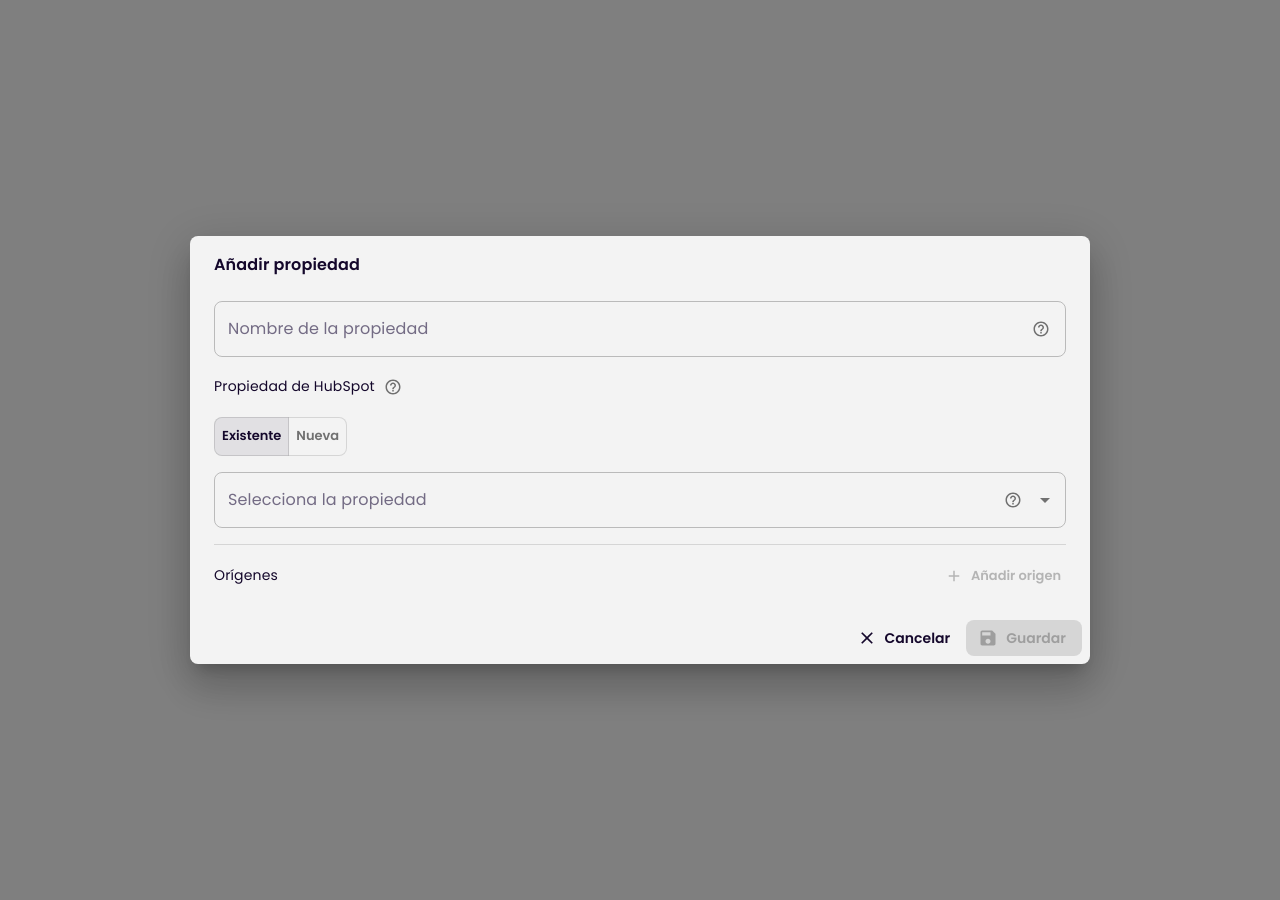
Test case: EntryWizard › en modo «new» exige nombre técnico y etiqueta para habilitar Guardar
The width and height of the screenshot is (1280, 900).
Type "Mi entrada" into the field labelled "Nombre de la propiedad" at (616, 329), box [214, 301, 1019, 357]
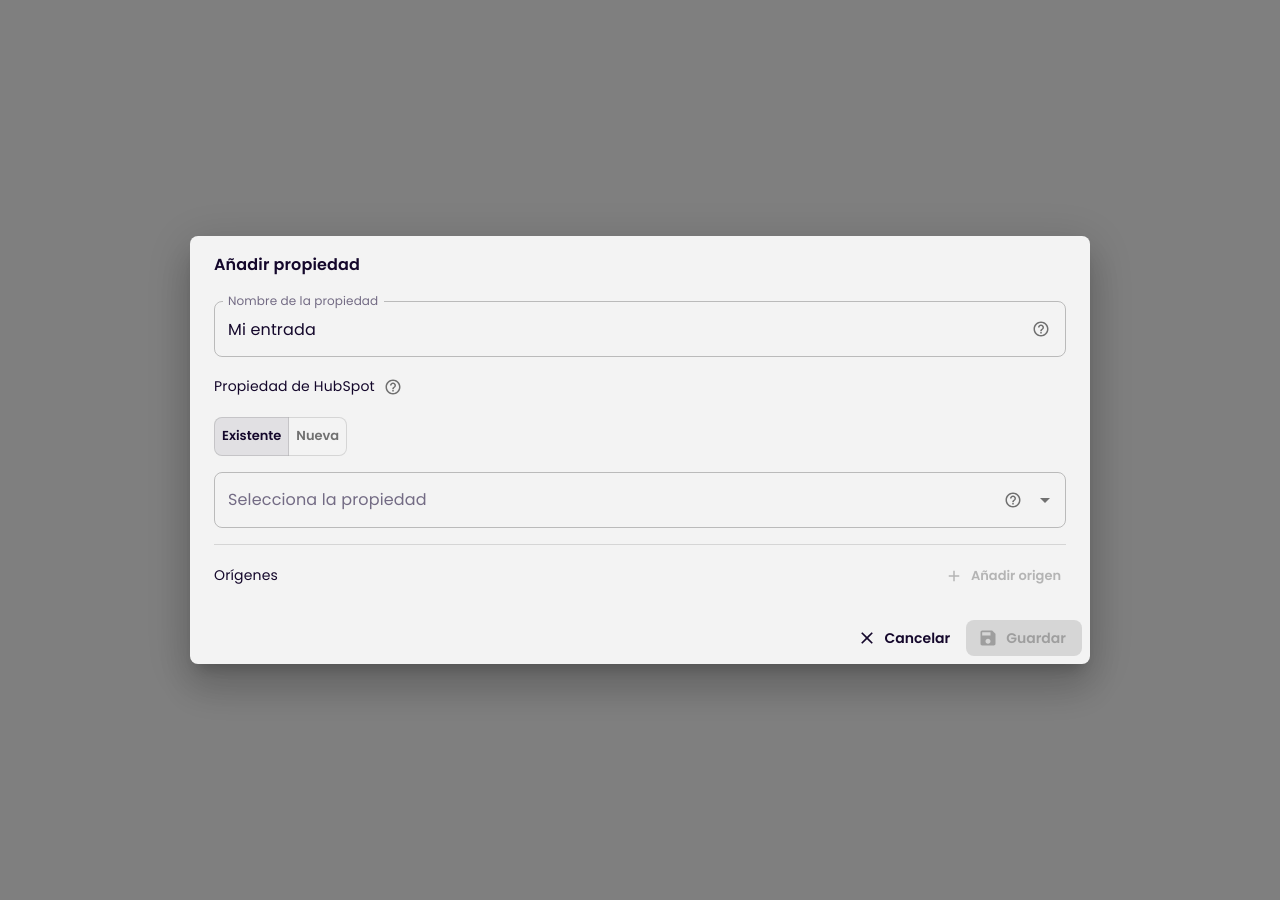
Click the button "Nueva" at (318, 437), box [288, 417, 347, 456]
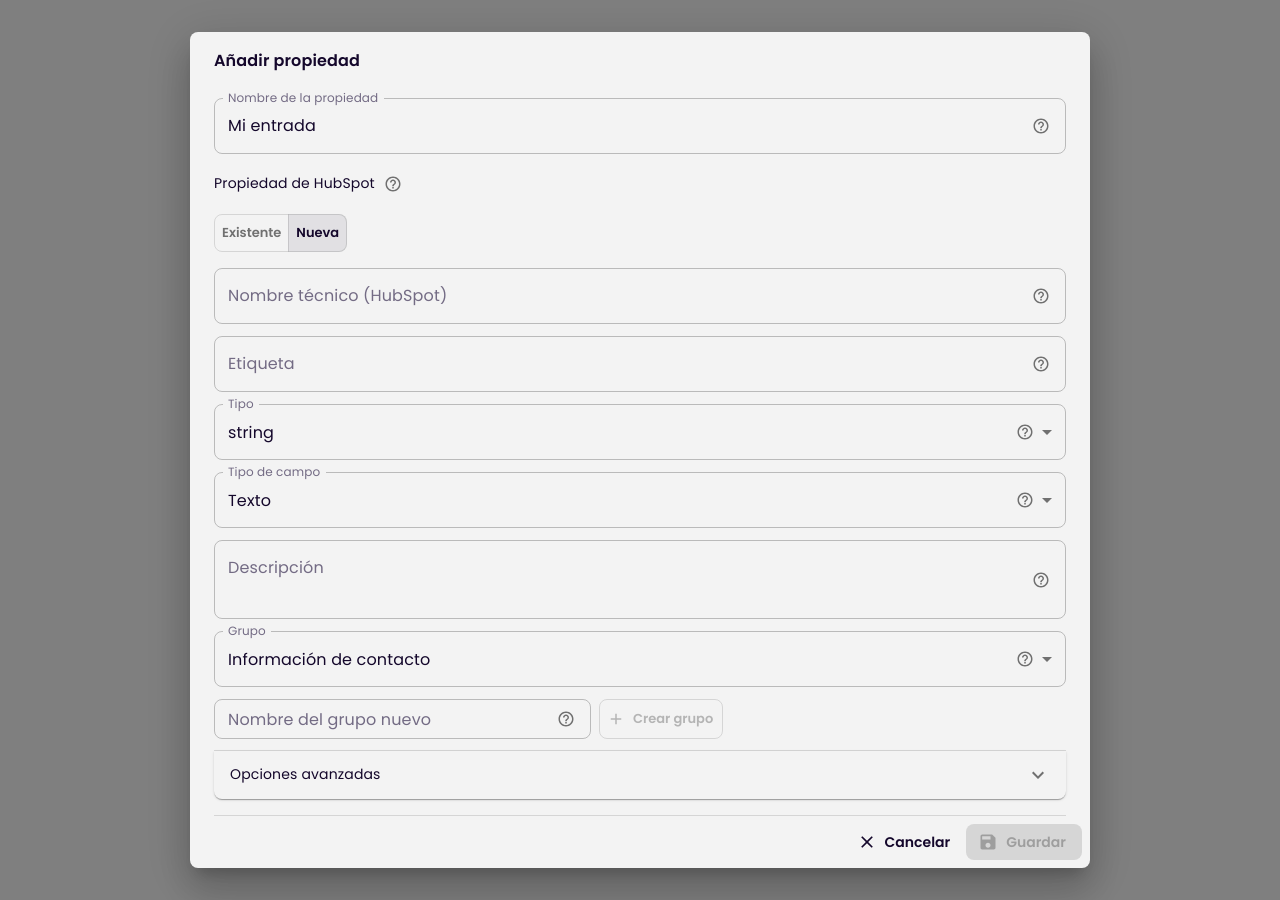
Expected: the button "Guardar" is disabled, [966, 824, 1082, 860]
Type "mi_prop" into the field labelled "Nombre técnico (HubSpot)" at (616, 296), box [214, 268, 1019, 324]
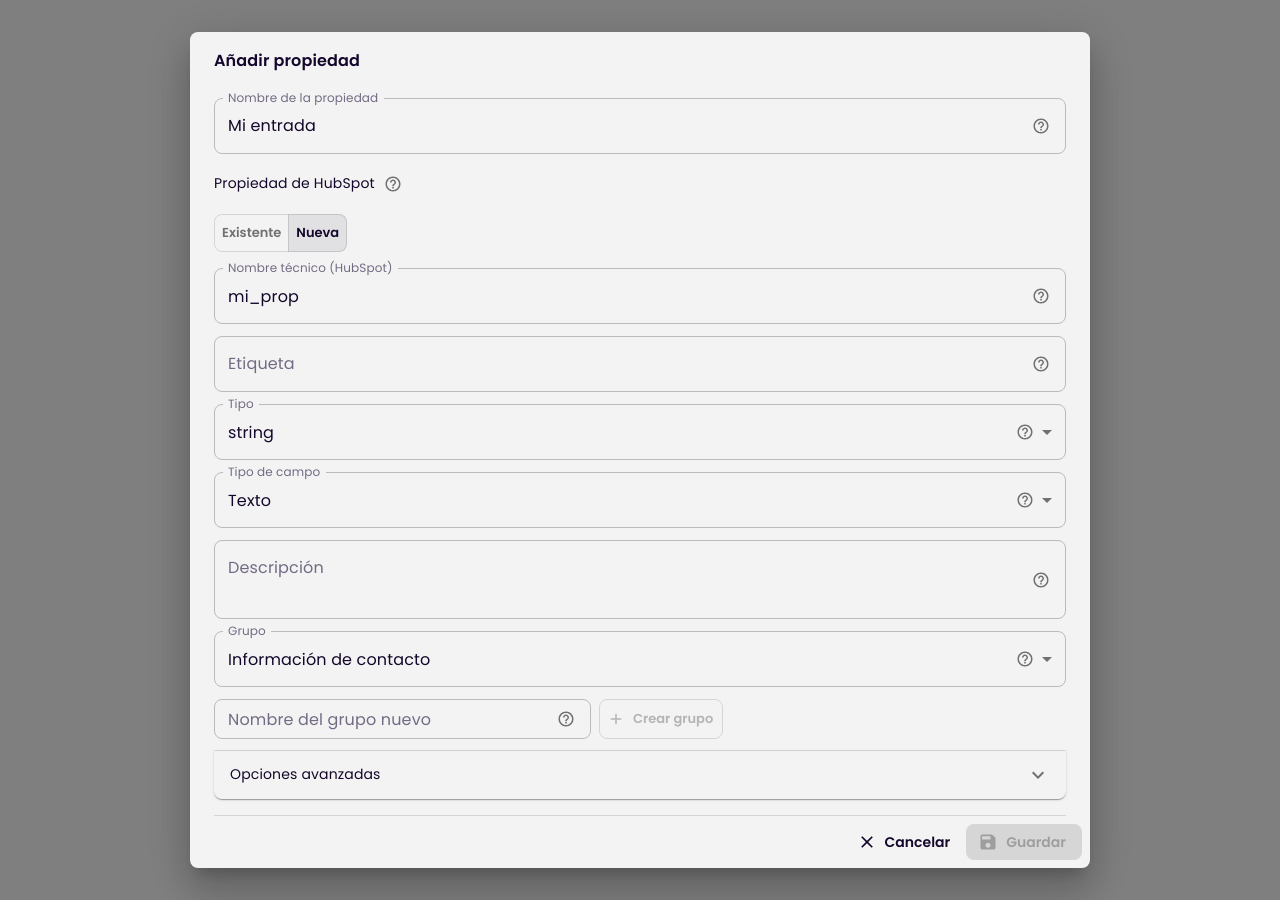
Expected: the button "Guardar" is disabled, [966, 824, 1082, 860]
Type "Mi prop" into the field labelled "Etiqueta" at (616, 364), box [214, 336, 1019, 392]
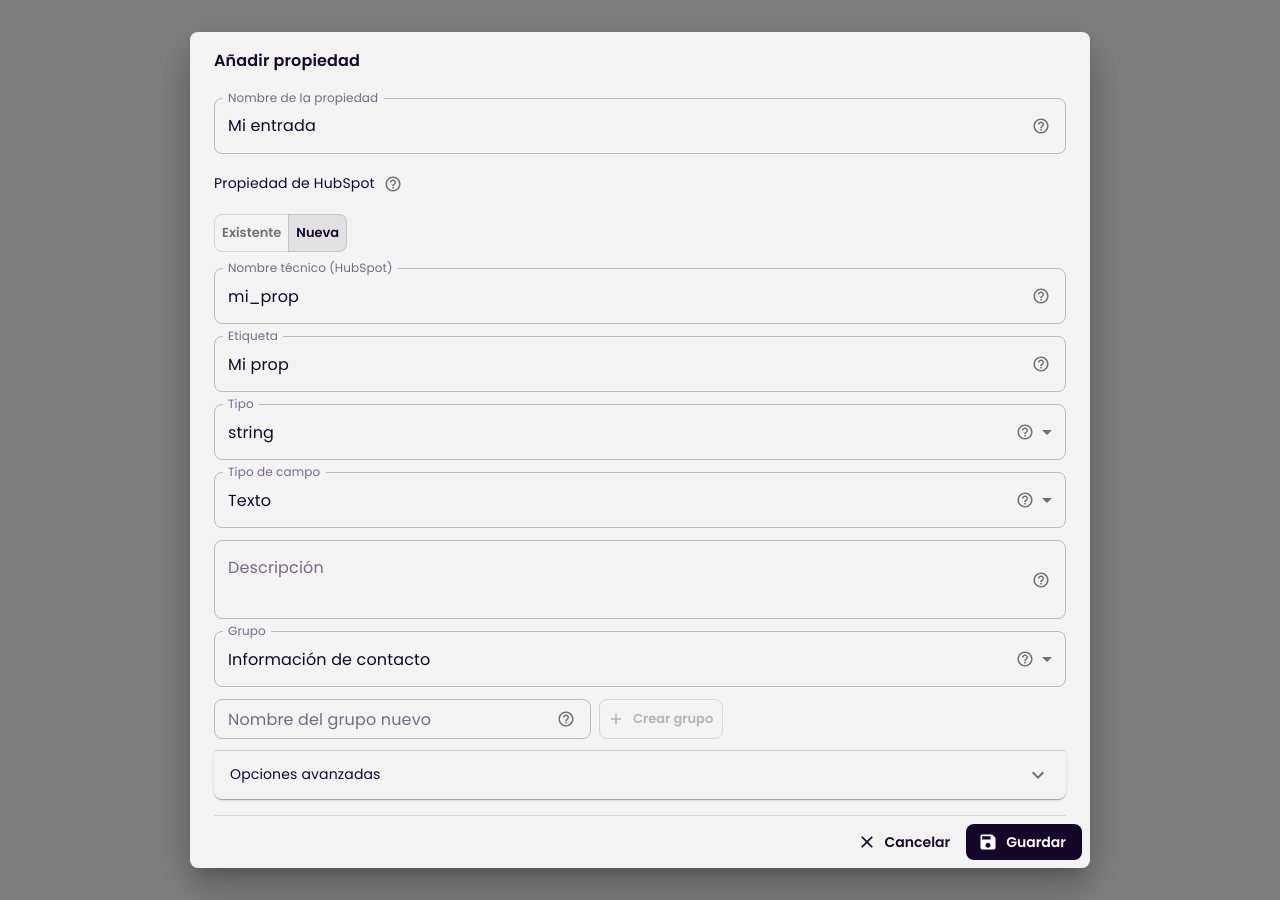
Now the button "Guardar" is enabled, box [966, 824, 1082, 860]
